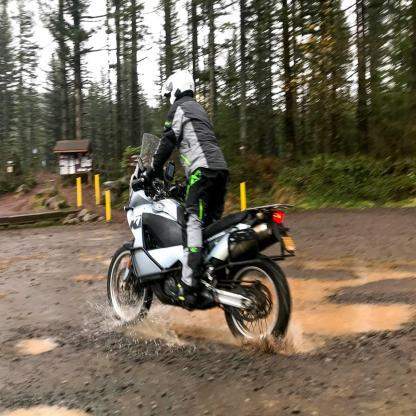helmet: (162, 70, 195, 112)
